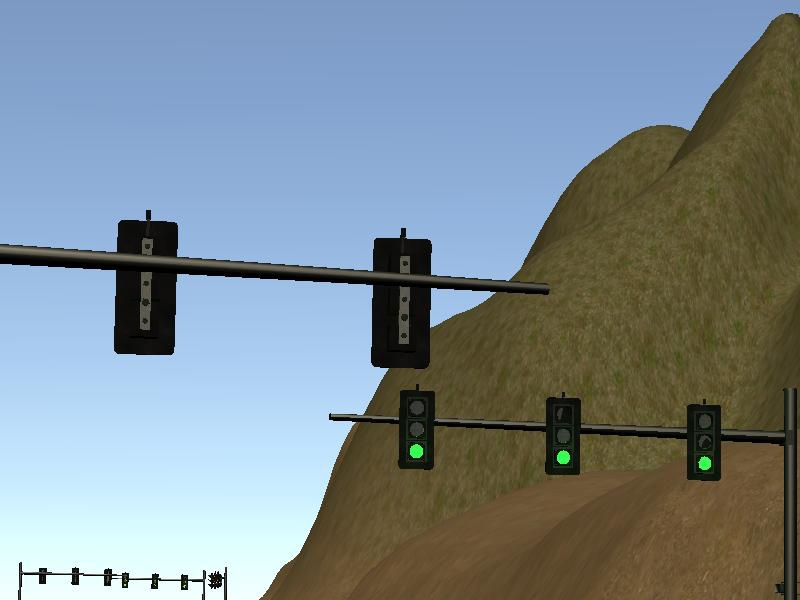Green: (687, 404, 722, 481), (546, 398, 578, 475), (401, 391, 433, 467), (120, 571, 129, 587), (151, 573, 158, 589), (180, 573, 186, 589)
